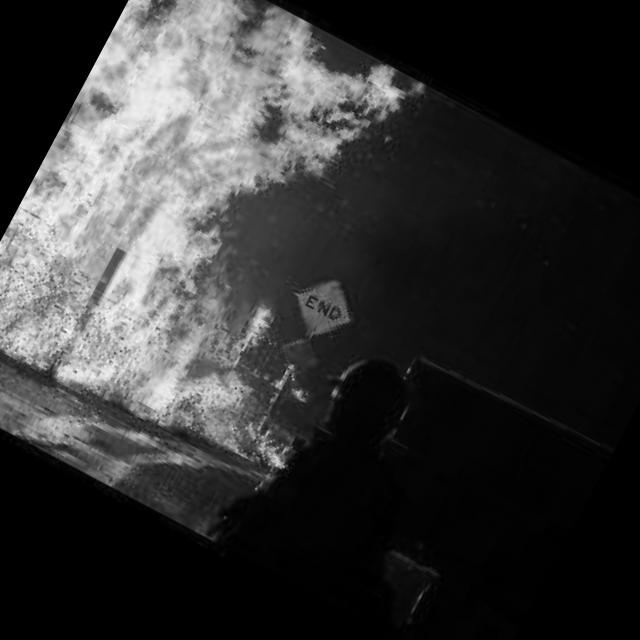fire: (0, 0, 427, 457)
